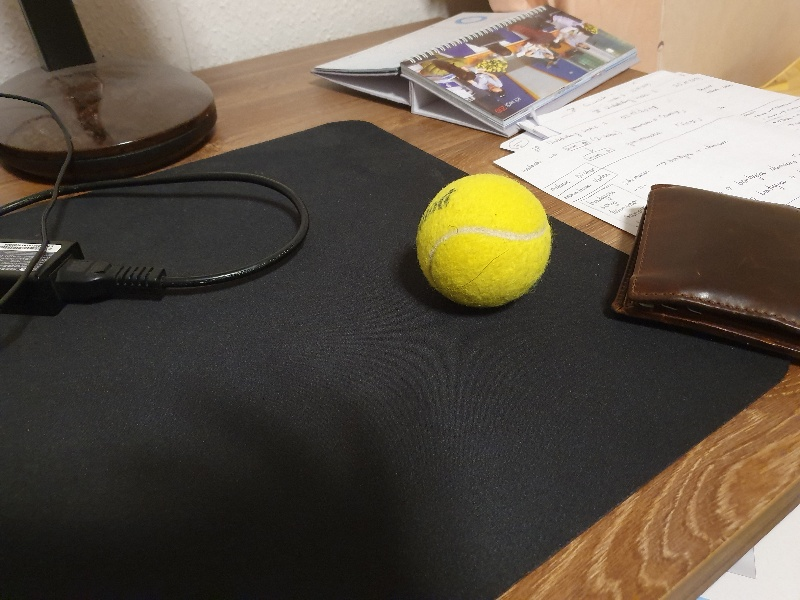Tennisball: (401, 167, 568, 329)
